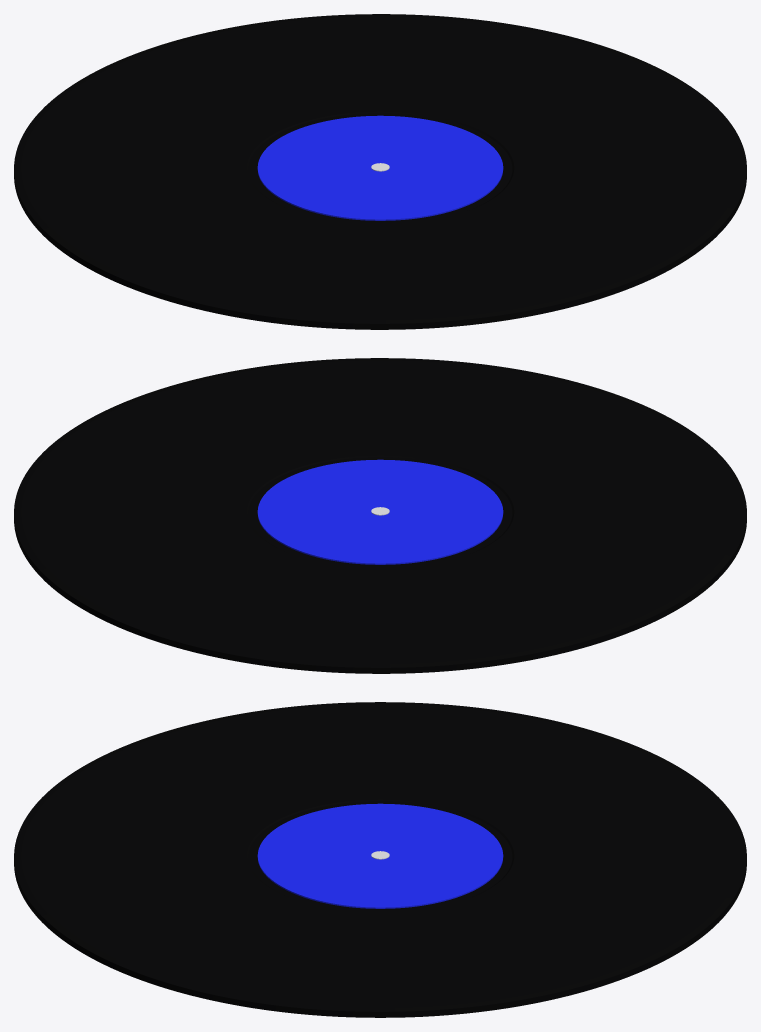
Rendered from vinyl.glb.
3 views of the same model, one above another, from view 1: azimuth 30°, elevation 25°; view 2: azimuth 150°, elevation 25°; view 3: azimuth 270°, elevation 25° (orthographic).
Parts seen in each view (by area): view 1: vinyl_body, vinyl_label; view 2: vinyl_body, vinyl_label; view 3: vinyl_body, vinyl_label.
Boxes of the visible parts, bbox=[...] form: vinyl_body: bbox=[14, 14, 746, 329]; vinyl_label: bbox=[257, 115, 503, 220]; vinyl_body: bbox=[14, 358, 746, 673]; vinyl_label: bbox=[257, 459, 503, 564]; vinyl_body: bbox=[14, 702, 746, 1017]; vinyl_label: bbox=[257, 803, 503, 908].
Bounding box in the file's own units: 2 × 0.03 × 2.
